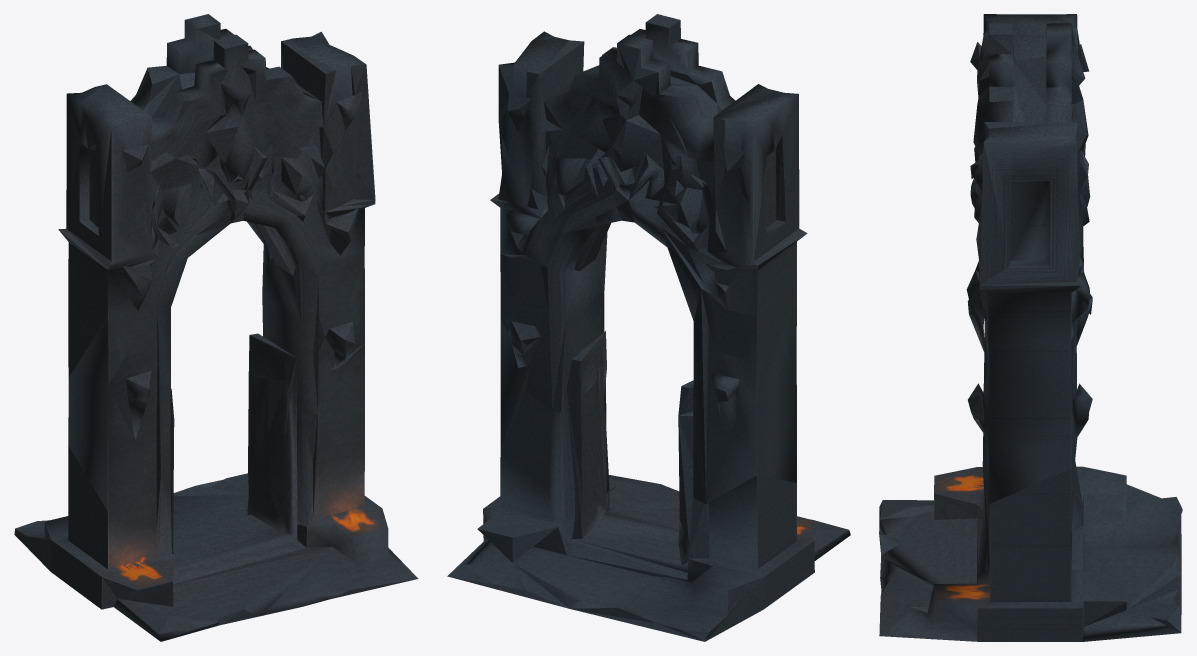
Rendered from modelo.fbx.
3 renders of one model, left to right at view 1: azimuth 30°, elevation 25°; view 2: azimuth 150°, elevation 25°; view 3: azimuth 270°, elevation 25°, orthographic. The views are drawn at different scales.
Visible parts, largest first — view 1: Mesh_0; view 2: Mesh_0; view 3: Mesh_0.
Boxes of the visible parts, box(x1,y1,x2,y2) form: Mesh_0: box(14, 14, 418, 641); Mesh_0: box(447, 14, 850, 641); Mesh_0: box(879, 14, 1182, 641).
Size of the model in its own units: 106 by 190 by 96.48.
1 material, 1 textured.
